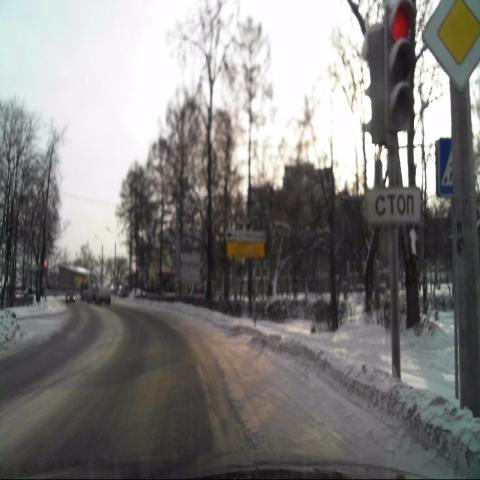6_16: (366, 189, 421, 223)
